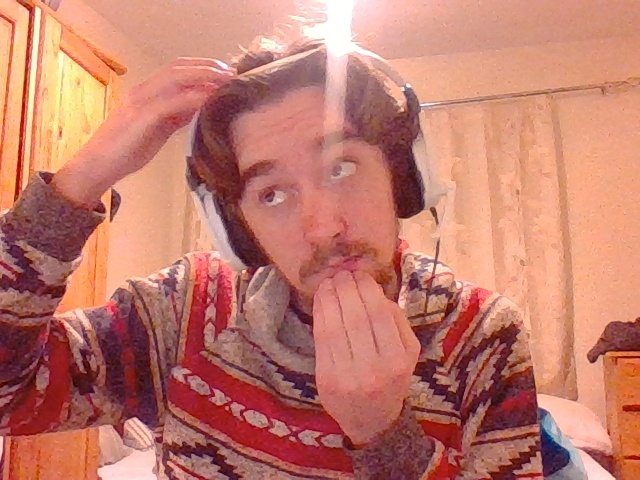thanks: (311, 271, 421, 435)
